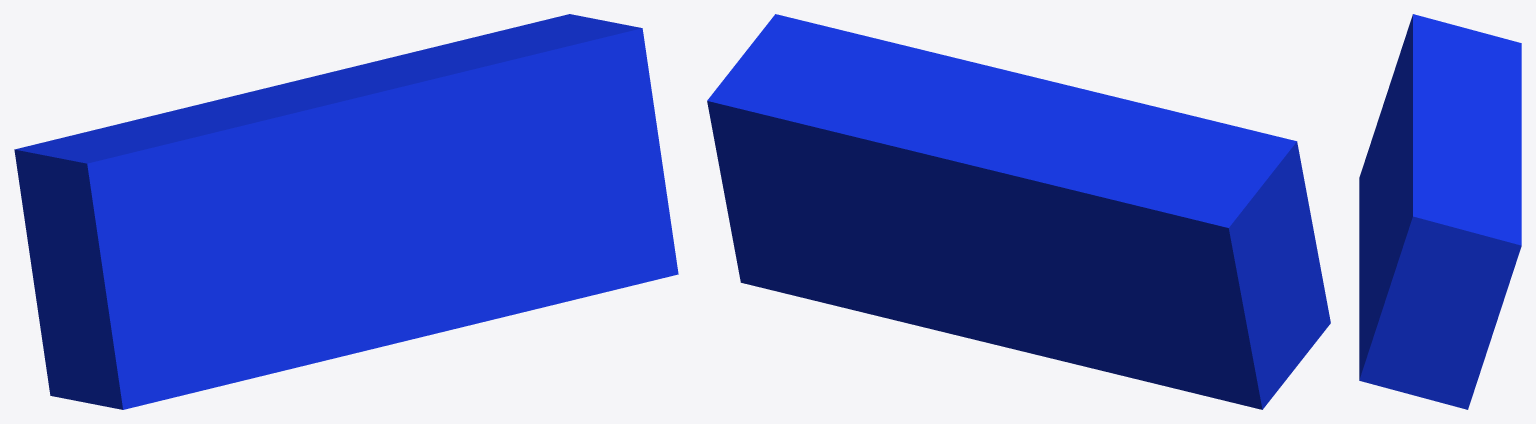
The model's file is boton07.FBX.
3 renders of one model, left to right at view 1: azimuth 30°, elevation 25°; view 2: azimuth 150°, elevation 25°; view 3: azimuth 270°, elevation 25°, orthographic. The views are drawn at different scales.
Parts seen in each view (by area): view 1: boton007; view 2: boton007; view 3: boton007.
Boxes of the visible parts, box(x1,y1,x2,y2) form: boton007: box(14, 14, 678, 409); boton007: box(707, 14, 1330, 409); boton007: box(1359, 14, 1521, 409).
Size of the model in its own units: 1.73 by 0.7714 by 0.5871.
